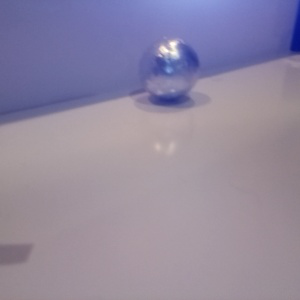alive_ball: (140, 38, 200, 100)
